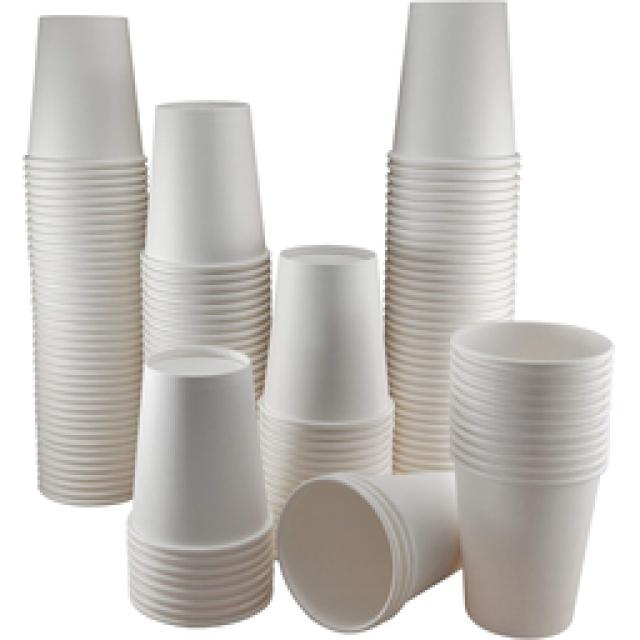paper_cups: (448, 319, 616, 633), (127, 347, 277, 622), (257, 242, 397, 458), (276, 470, 456, 636), (385, 0, 523, 216), (140, 102, 270, 294), (24, 12, 147, 204)
